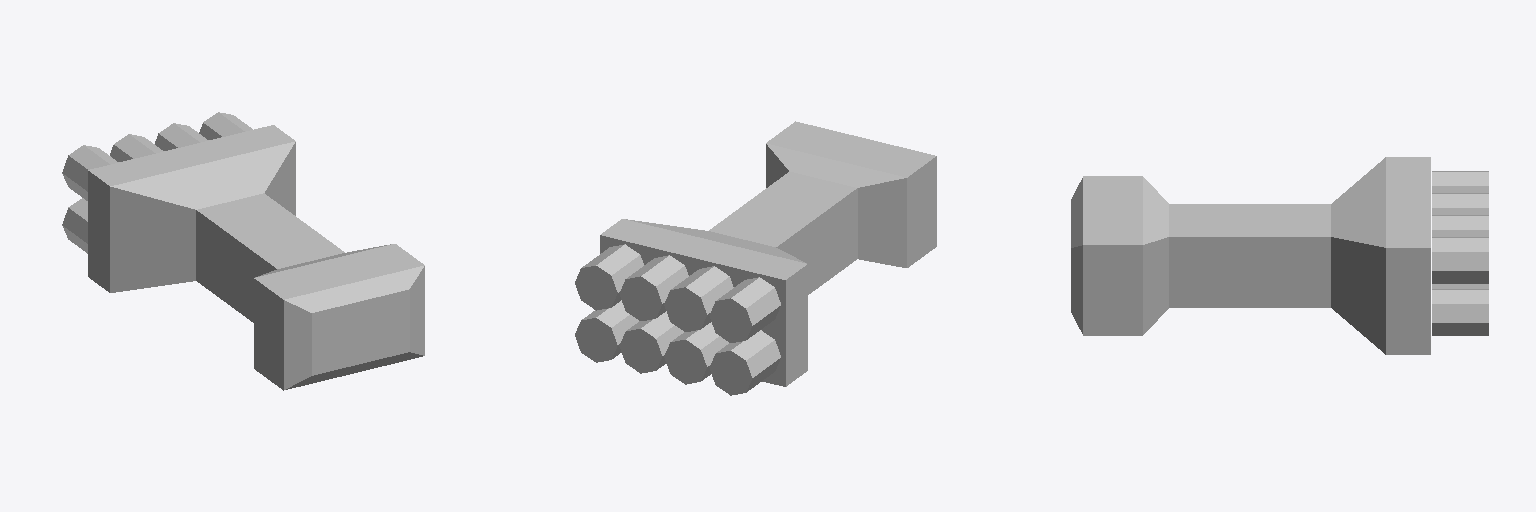
File: ProjBlockade.obj
3 renders of one model, left to right at view 1: azimuth 30°, elevation 25°; view 2: azimuth 150°, elevation 25°; view 3: azimuth 270°, elevation 25°, orthographic.
Visible parts, largest first — view 1: Cube_Cube.001; view 2: Cube_Cube.001; view 3: Cube_Cube.001.
Boxes of the visible parts, x1,y1,x2,y2 form: Cube_Cube.001: [62, 112, 424, 390]; Cube_Cube.001: [575, 121, 936, 395]; Cube_Cube.001: [1071, 157, 1488, 354].
Size of the model in its own units: 0.3469 by 0.1907 by 0.6776.